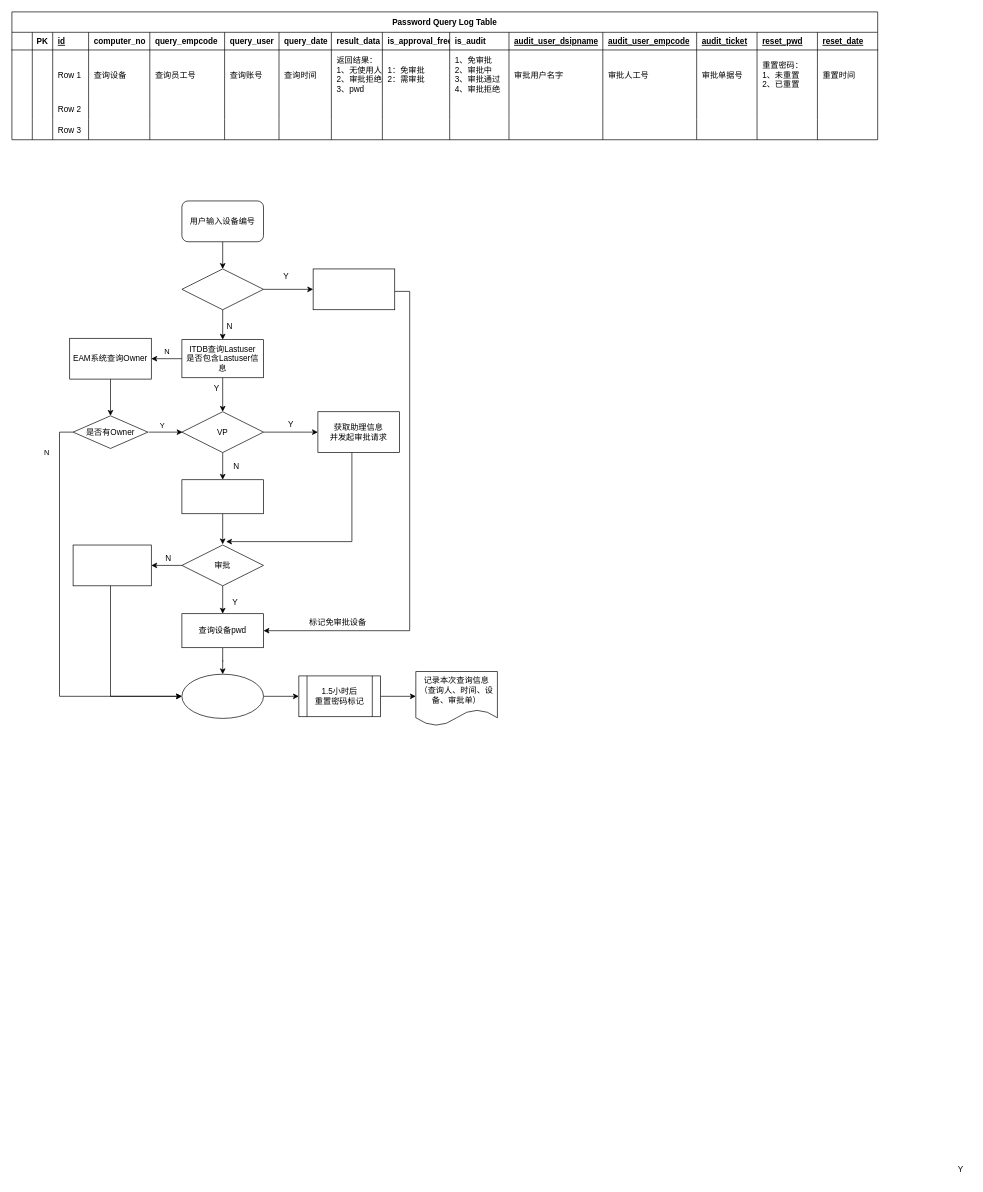
The diagram is 983 pixels wide and 1192 high, and some of its shapes have lost their labels. The shapes that lost their labels are listed below. From the top down, each one's centre as x and y in pixels, then its label:
point (222, 289): 免审批判断
point (353, 289): 公共设备
point (222, 496): 向LastUser/EAM Owner发起审批请求
point (111, 565): 拒绝
point (222, 696): 数据保存，返回结果
